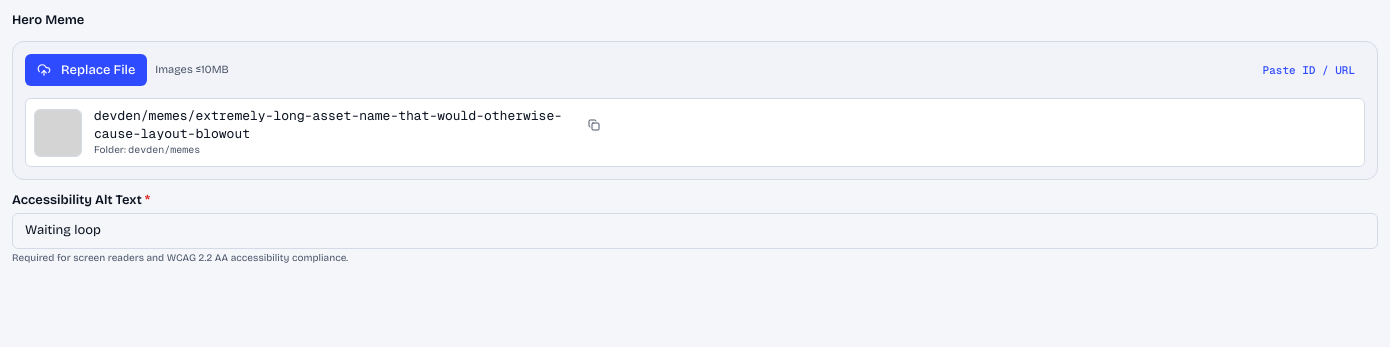
Test: Phase O: Admin Long-URL Truncation & Public ID Display › renders manual override input with truncate class to prevent blowout
The image size is (1390, 347).
// Click "Paste ID / URL" button
Click the button "Paste ID / URL".
click(1309, 70)  # box top-left (1253, 58), bottom-right (1365, 82)
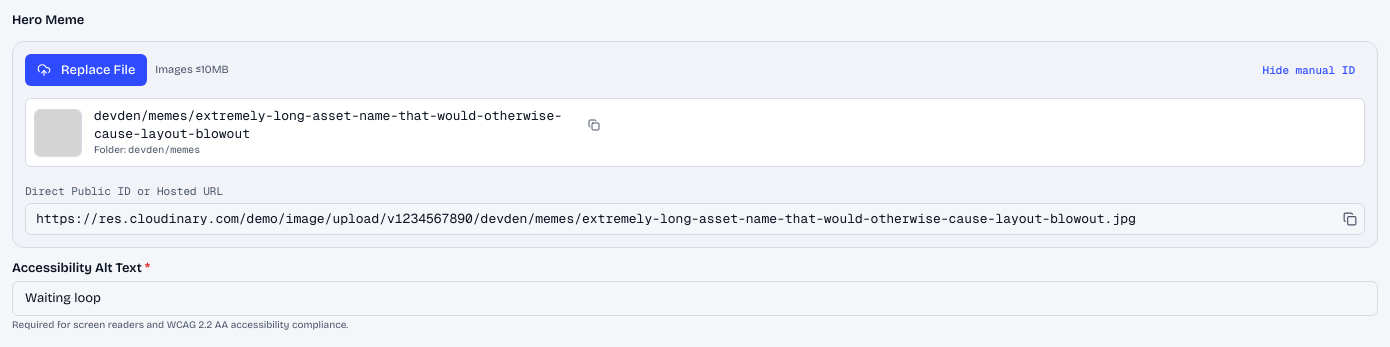
Expected: the field with placeholder "e.g. devden/memes/waiting or https://res.cloudinary.com/..." is shown, top-left (25, 204), bottom-right (1365, 235)
